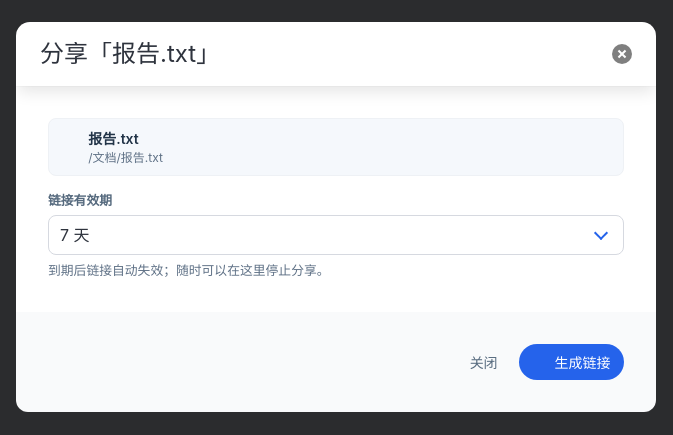
Test case: ShareDialog.vue › stops sharing and returns to the form
Step 1. Click the button "生成链接" → x=572, y=362, box 519,344 -> 624,380
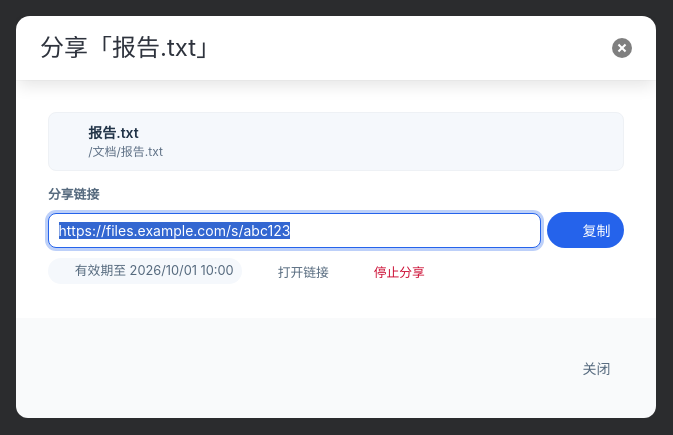
Expected: the field showing "https://files.example.com/s/abc123" is shown, 48,213 -> 541,248
Step 2. Click the button "停止分享" → x=388, y=271, box 343,256 -> 434,286
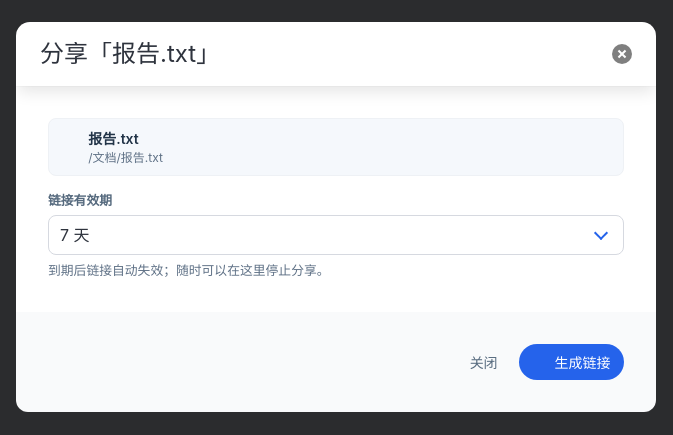
Expected: the field showing "https://files.example.com/s/abc123" is not shown
Expected: the button "生成链接" is shown, 519,344 -> 624,380
